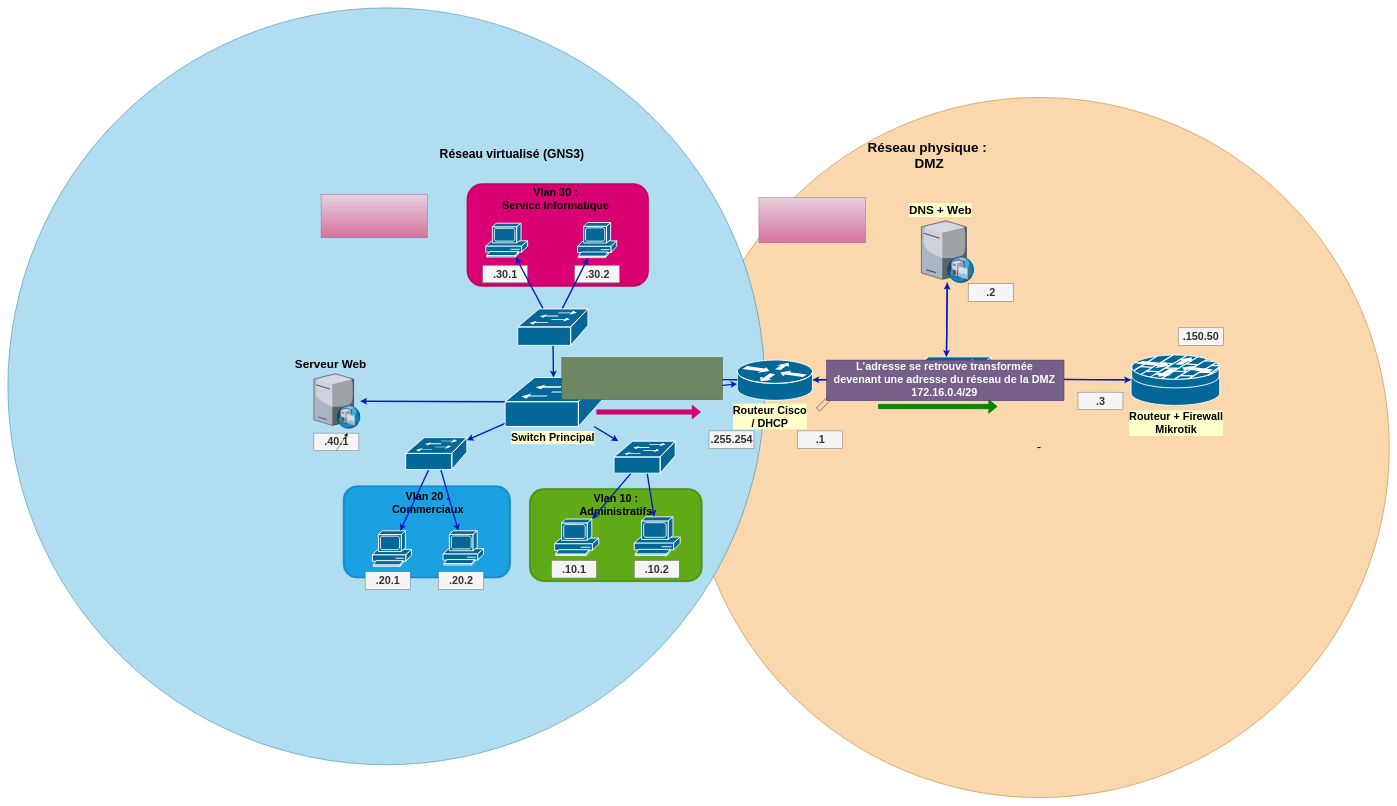
The diagram is 1397 pixels wide and 806 high, and some of its shapes have lost their labels. Here are the shapes that lost their labels. From the top down, the centre of each, then its label:
At point (374, 216): "Réseau local : 192.168.0.0/24".
At point (812, 220): "Réseau : 172.16.0.0/29".
At point (641, 378): "Adresse venant du VLAN10 Sous la forme 192.168.10.0/24".
